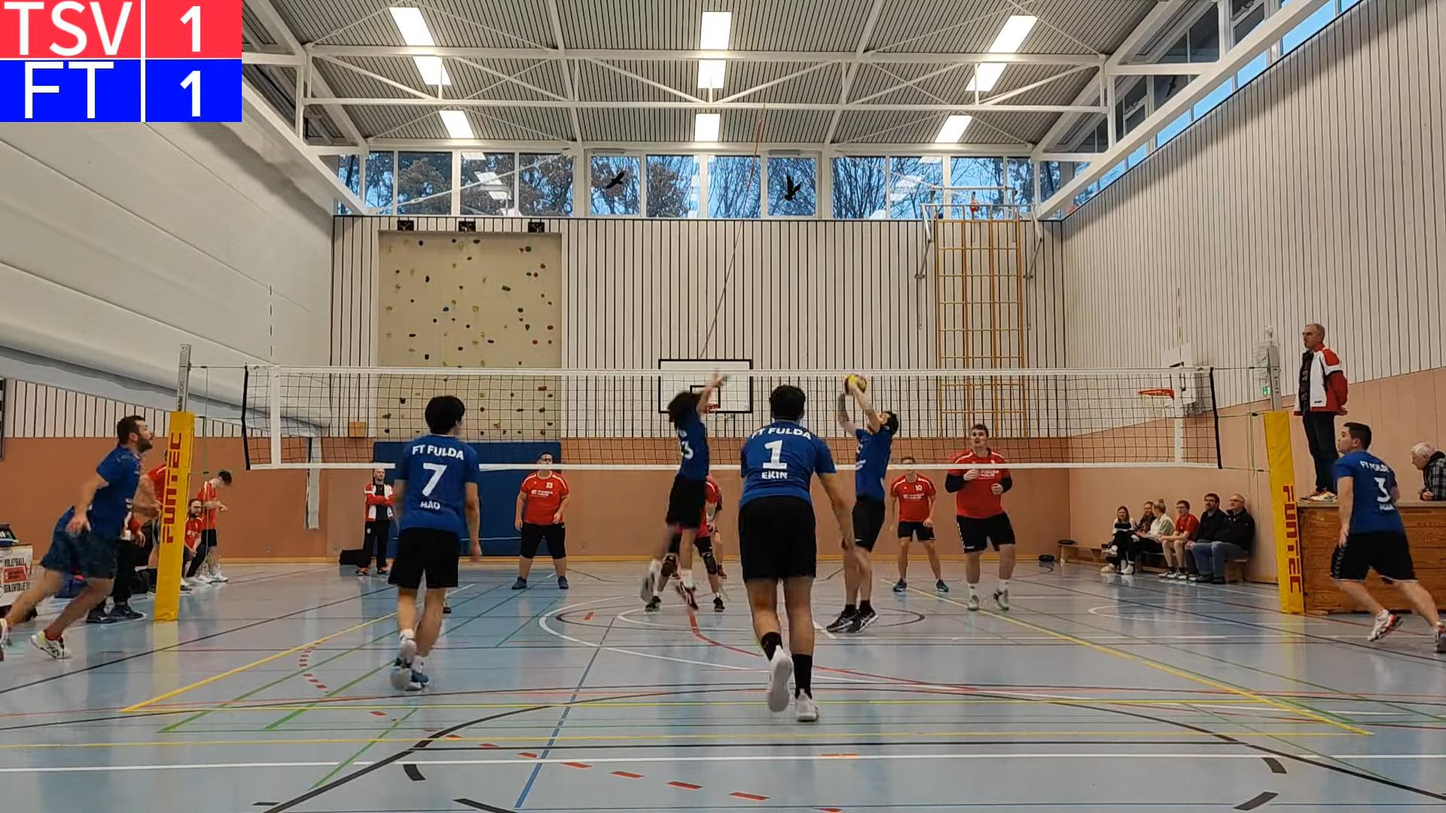alzata: (826, 386, 899, 635)
